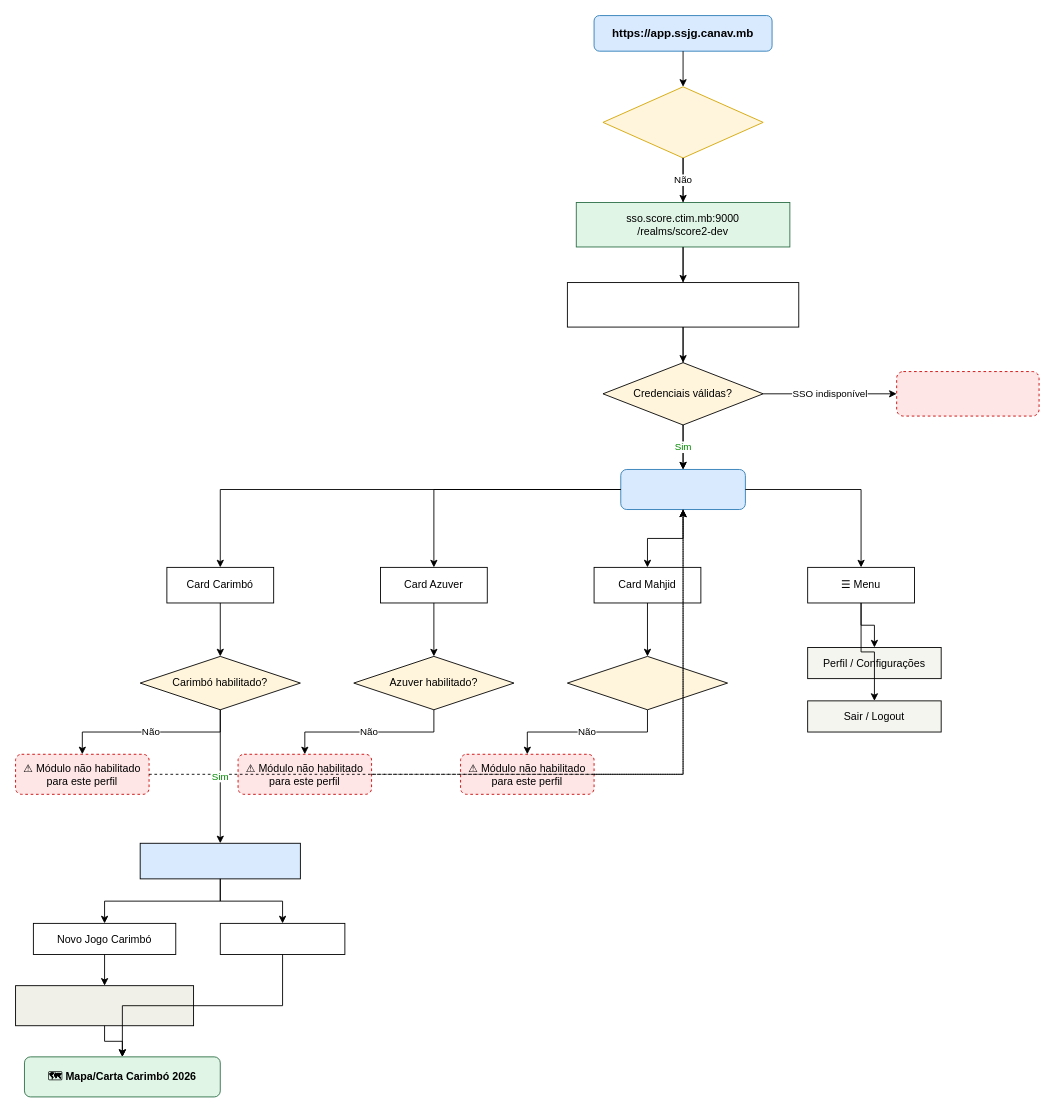
Image size: 1055x1113. Some labels were removed from this diagram. The centre of each missing label's shape, as x and y in pixels:
Carimbó 2026: (x=282, y=938)
Configurar Jogo participantes · cenário · regras: (x=104, y=1005)
Já está autenticado?: (x=682, y=122)
Mahjid habilitado?: (x=647, y=682)
Selecionar Jogo: (x=219, y=860)
Selecionar tipo de identificador NIP / CPF / Email + Senha: (x=682, y=304)
⚠ Serviço indisponível. Tente mais tarde.: (x=967, y=393)
🏠 Home: (x=682, y=489)
